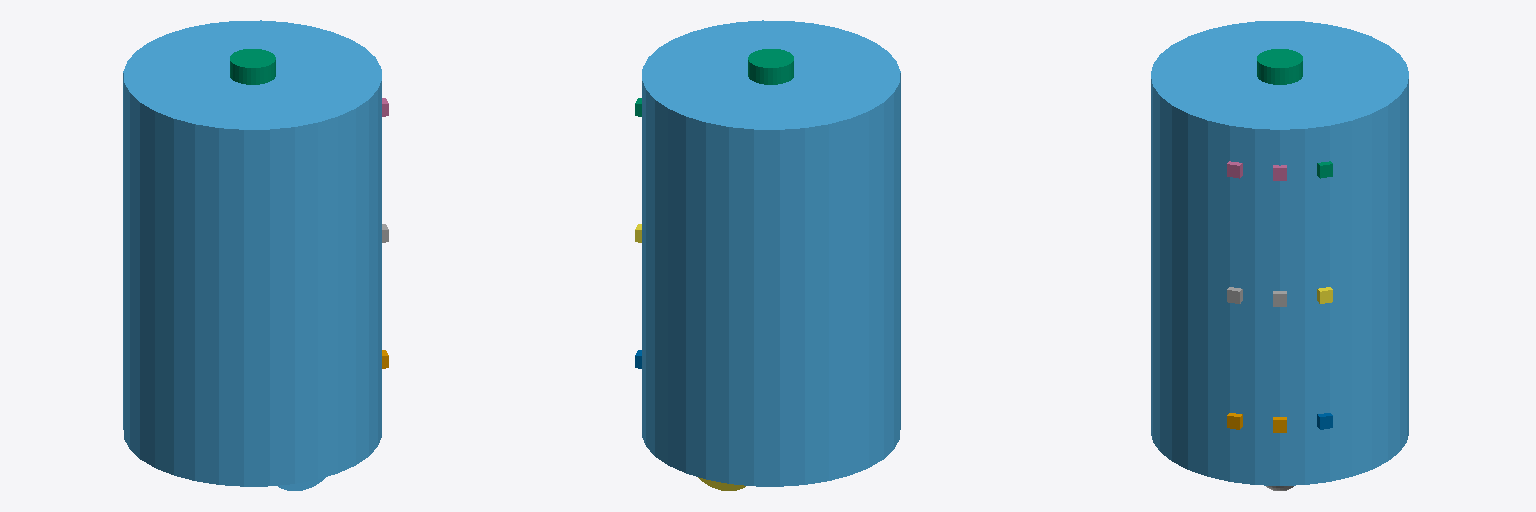
URDF robot description (ServiceRoboter):
?<?xml version="1.0" encoding="utf-8"?>
<robot name="ServiceRoboter">
  <link name="base_link">
    <inertial>
      <origin rpy="0 0 0" xyz="0 0 0" />
      <mass value="1" />
      <inertia ixx="1" ixy="0" ixz="0" iyy="1" iyz="0" izz="1" />
    </inertial>
  </link>
  <link name="barrel">
    <inertial>
      <origin rpy="0 0 0" xyz="0 0 0.475" />
      <mass value="1" />
      <inertia ixx="0.079488530755043" ixy="0" ixz="0" iyy="0.0794885382056236" iyz="0" izz="0.0385604798793793" />
    </inertial>
    <visual>
      <origin xyz="0 0 0.475" />
      <geometry>
        <cylinder length="0.85" radius="0.28" />
      </geometry>
    </visual>
    <collision>
      <origin xyz="0 0 0.475" />
      <geometry>
        <cylinder length="0.85" radius="0.28" />
      </geometry>
    </collision>
  </link>
  <link name="lidar">
    <inertial>
      <origin rpy="0 0 0" xyz="0 0 0" />
      <mass value="1" />
      <inertia ixx="1" ixy="0" ixz="0" iyy="1" iyz="0" izz="1" />
    </inertial>
    <visual>
      <origin xyz="0 0 0.02" />
      <geometry>
        <cylinder length="0.04" radius="0.05" />
      </geometry>
    </visual>
    <collision>
      <origin xyz="0 0 0.02" />
      <geometry>
        <cylinder length="0.04" radius="0.05" />
      </geometry>
    </collision>
  </link>
  <link name="wheel_base">
    <inertial>
      <origin rpy="0 0 0" xyz="0 0 0" />
      <mass value="1" />
      <inertia ixx="1" ixy="0" ixz="0" iyy="1" iyz="0" izz="1" />
    </inertial>
  </link>
  <link name="wheel_back_axis">
    <inertial>
      <origin rpy="0 0 0" xyz="0 0 0" />
      <mass value="1" />
      <inertia ixx="1" ixy="0" ixz="0" iyy="1" iyz="0" izz="1" />
    </inertial>
  </link>
  <link name="wheel_back">
    <inertial>
      <origin rpy="0 0 0" xyz="0 4E-06 3.6E-05" />
      <mass value="1" />
      <inertia ixx="0.00369529682211578" ixy="0" ixz="0" iyy="0.00369553361088037" iyz="0" izz="0.00341923860833049" />
    </inertial>
    <visual>
      <geometry>
        <sphere radius="0.05" />
      </geometry>
    </visual>
    <collision>
      <geometry>
        <sphere radius="0.05" />
      </geometry>
    </collision>
  </link>
  <link name="wheel_front_axis">
    <inertial>
      <origin rpy="0 0 0" xyz="0 0 0" />
      <mass value="1" />
      <inertia ixx="1" ixy="0" ixz="0" iyy="1" iyz="0" izz="1" />
    </inertial>
  </link>
  <link name="wheel_front">
    <inertial>
      <origin rpy="0 0 0" xyz="0 4E-06 3.6E-05" />
      <mass value="1" />
      <inertia ixx="0.00369529682211578" ixy="0" ixz="0" iyy="0.00369553361088037" iyz="0" izz="0.00341923860833049" />
    </inertial>
    <visual>
      <geometry>
        <sphere radius="0.05" />
      </geometry>
    </visual>
    <collision>
      <geometry>
        <sphere radius="0.05" />
      </geometry>
    </collision>
  </link>
  <link name="wheel_left_axis">
    <inertial>
      <origin rpy="0 0 0" xyz="0 0 0" />
      <mass value="1" />
      <inertia ixx="1" ixy="0" ixz="0" iyy="1" iyz="0" izz="1" />
    </inertial>
  </link>
  <link name="wheel_left">
    <inertial>
      <origin rpy="0 0 0" xyz="0 0 0" />
      <mass value="1" />
      <inertia ixx="0.00259254919365048" ixy="0" ixz="0" iyy="0.00491843000054359" iyz="0" izz="0.00259254802949727" />
    </inertial>
    <visual>
      <origin rpy="-1.570796 0 0" />
      <geometry>
        <cylinder length="0.04" radius="0.1" />
      </geometry>
    </visual>
    <collision>
      <origin rpy="-1.570796 0 0" />
      <geometry>
        <cylinder length="0.04" radius="0.1" />
      </geometry>
    </collision>
  </link>
  <link name="wheel_right_axis">
    <inertial>
      <origin rpy="0 0 0" xyz="0 0 0" />
      <mass value="1" />
      <inertia ixx="1" ixy="0" ixz="0" iyy="1" iyz="0" izz="1" />
    </inertial>
  </link>
  <link name="wheel_right">
    <inertial>
      <origin rpy="0 0 0" xyz="0 0 0" />
      <mass value="1" />
      <inertia ixx="0.00259254919365048" ixy="0" ixz="0" iyy="0.00491843000054359" iyz="0" izz="0.00259254802949727" />
    </inertial>
    <visual>
      <origin rpy="-1.570796 0 0" />
      <geometry>
        <cylinder length="0.04" radius="0.1" />
      </geometry>
    </visual>
    <collision>
      <origin rpy="-1.570796 0 0" />
      <geometry>
        <cylinder length="0.04" radius="0.1" />
      </geometry>
    </collision>
  </link>
  <link name="uss_base">
    <inertial>
      <origin rpy="0 0 0" xyz="0 0 0" />
      <mass value="1" />
      <inertia ixx="1" ixy="0" ixz="0" iyy="1" iyz="0" izz="1" />
    </inertial>
  </link>
  <link name="uss_front">
    <inertial>
      <origin rpy="0 0 0" xyz="0 0 0" />
      <mass value="1" />
      <inertia ixx="1" ixy="0" ixz="0" iyy="1" iyz="0" izz="1" />
    </inertial>
  </link>
  <link name="sensor_front_1">
    <inertial>
      <origin rpy="0 0 0" xyz="0 0 0" />
      <mass value="1" />
      <inertia ixx="1" ixy="0" ixz="0" iyy="1" iyz="0" izz="1" />
    </inertial>
    <visual>
      <geometry>
        <box size="0.03 0.03 0.03" />
      </geometry>
    </visual>
  </link>
  <link name="sensor_front_2">
    <inertial>
      <origin rpy="0 0 0" xyz="0 0 0" />
      <mass value="1" />
      <inertia ixx="1" ixy="0" ixz="0" iyy="1" iyz="0" izz="1" />
    </inertial>
    <visual>
      <geometry>
        <box size="0.03 0.03 0.03" />
      </geometry>
    </visual>
  </link>
  <link name="sensor_front_3">
    <inertial>
      <origin rpy="0 0 0" xyz="0 0 0" />
      <mass value="1" />
      <inertia ixx="1" ixy="0" ixz="0" iyy="1" iyz="0" izz="1" />
    </inertial>
    <visual>
      <geometry>
        <box size="0.03 0.03 0.03" />
      </geometry>
    </visual>
  </link>
  <link name="uss_left">
    <inertial>
      <origin rpy="0 0 0" xyz="0 0 0" />
      <mass value="1" />
      <inertia ixx="1" ixy="0" ixz="0" iyy="1" iyz="0" izz="1" />
    </inertial>
  </link>
  <link name="sensor_left_1">
    <inertial>
      <origin rpy="0 0 0" xyz="0 0 0" />
      <mass value="1" />
      <inertia ixx="1" ixy="0" ixz="0" iyy="1" iyz="0" izz="1" />
    </inertial>
    <visual>
      <geometry>
        <box size="0.03 0.03 0.03" />
      </geometry>
    </visual>
  </link>
  <link name="sensor_left_2">
    <inertial>
      <origin rpy="0 0 0" xyz="0 0 0" />
      <mass value="1" />
      <inertia ixx="1" ixy="0" ixz="0" iyy="1" iyz="0" izz="1" />
    </inertial>
    <visual>
      <geometry>
        <box size="0.03 0.03 0.03" />
      </geometry>
    </visual>
  </link>
  <link name="sensor_left_3">
    <inertial>
      <origin rpy="0 0 0" xyz="0 0 0" />
      <mass value="1" />
      <inertia ixx="1" ixy="0" ixz="0" iyy="1" iyz="0" izz="1" />
    </inertial>
    <visual>
      <geometry>
        <box size="0.03 0.03 0.03" />
      </geometry>
    </visual>
  </link>
  <link name="uss_right">
    <inertial>
      <origin rpy="0 0 0" xyz="0 0 0" />
      <mass value="1" />
      <inertia ixx="1" ixy="0" ixz="0" iyy="1" iyz="0" izz="1" />
    </inertial>
  </link>
  <link name="sensor_right_1">
    <inertial>
      <origin rpy="0 0 0" xyz="0 0 0" />
      <mass value="1" />
      <inertia ixx="1" ixy="0" ixz="0" iyy="1" iyz="0" izz="1" />
    </inertial>
    <visual>
      <origin xyz="0.28 0 0" />
      <geometry>
        <box size="0.03 0.03 0.03" />
      </geometry>
    </visual>
  </link>
  <link name="sensor_right_2">
    <inertial>
      <origin rpy="0 0 0" xyz="0 0 0" />
      <mass value="1" />
      <inertia ixx="1" ixy="0" ixz="0" iyy="1" iyz="0" izz="1" />
    </inertial>
    <visual>
      <geometry>
        <box size="0.03 0.03 0.03" />
      </geometry>
    </visual>
  </link>
  <link name="sensor_right_3">
    <inertial>
      <origin rpy="0 0 0" xyz="0 0 0" />
      <mass value="1" />
      <inertia ixx="1" ixy="0" ixz="0" iyy="1" iyz="0" izz="1" />
    </inertial>
    <visual>
      <geometry>
        <box size="0.03 0.03 0.03" />
      </geometry>
    </visual>
  </link>
  <link name="base_footprint">
    <inertial>
      <origin rpy="0 0 0" xyz="0 0 0" />
      <mass value="1" />
      <inertia ixx="1" ixy="0" ixz="0" iyy="1" iyz="0" izz="1" />
    </inertial>
  </link>
  <joint name="base_link_barrel_joint" type="fixed">
    <parent link="base_link" />
    <child link="barrel" />
  </joint>
  <joint name="barrel_lidar_joint" type="fixed">
    <origin xyz="0 0 0.9" />
    <parent link="barrel" />
    <child link="lidar" />
  </joint>
  <joint name="barrel_wheel_base_joint" type="fixed">
    <origin xyz="0 0 0.1" />
    <parent link="barrel" />
    <child link="wheel_base" />
  </joint>
  <joint name="wheel_base_wheel_back_axis_joint" type="fixed">
    <origin xyz="0 0 -0.045" />
    <parent link="wheel_base" />
    <child link="wheel_back_axis" />
  </joint>
  <joint name="wheel_back_axis_wheel_back_joint" type="fixed">
    <origin xyz="-0.2 0 0" />
    <parent link="wheel_back_axis" />
    <child link="wheel_back" />
  </joint>
  <joint name="wheel_base_wheel_front_axis_joint" type="fixed">
    <origin xyz="0.2 0 -0.045" />
    <parent link="wheel_base" />
    <child link="wheel_front_axis" />
  </joint>
  <joint name="wheel_front_axis_wheel_front_joint" type="fixed">
    <parent link="wheel_front_axis" />
    <child link="wheel_front" />
  </joint>
  <joint name="wheel_base_wheel_left_axis_joint" type="fixed">
    <origin xyz="0 -0.2 0" />
    <parent link="wheel_base" />
    <child link="wheel_left_axis" />
  </joint>
  <joint name="wheel_left_axis_wheel_left_joint" type="revolute">
    <parent link="wheel_left_axis" />
    <child link="wheel_left" />
    <dynamics damping="0.0500000007450581" friction="0.0500000007450581" />
    <limit lower="0" upper="0" effort="3.40282346638529E+38" velocity="7" />
  </joint>
  <joint name="wheel_base_wheel_right_axis_joint" type="fixed">
    <origin xyz="0 0.2 0" />
    <parent link="wheel_base" />
    <child link="wheel_right_axis" />
  </joint>
  <joint name="wheel_right_axis_wheel_right_joint" type="revolute">
    <parent link="wheel_right_axis" />
    <child link="wheel_right" />
    <dynamics damping="0.0500000007450581" friction="0.0500000007450581" />
    <limit lower="0" upper="0" effort="3.40282346638529E+38" velocity="7" />
  </joint>
  <joint name="barrel_uss_base_joint" type="fixed">
    <origin xyz="0 0 0.8" />
    <parent link="barrel" />
    <child link="uss_base" />
  </joint>
  <joint name="uss_base_uss_front_joint" type="fixed">
    <parent link="uss_base" />
    <child link="uss_front" />
  </joint>
  <joint name="uss_front_sensor_front_1_joint" type="fixed">
    <origin xyz="0.28 0 0" />
    <parent link="uss_front" />
    <child link="sensor_front_1" />
  </joint>
  <joint name="uss_front_sensor_front_2_joint" type="fixed">
    <origin xyz="0.28 0 -0.3" />
    <parent link="uss_front" />
    <child link="sensor_front_2" />
  </joint>
  <joint name="uss_front_sensor_front_3_joint" type="fixed">
    <origin xyz="0.28 0 -0.6" />
    <parent link="uss_front" />
    <child link="sensor_front_3" />
  </joint>
  <joint name="uss_base_uss_left_joint" type="fixed">
    <origin rpy="0 0 -5.934119" />
    <parent link="uss_base" />
    <child link="uss_left" />
  </joint>
  <joint name="uss_left_sensor_left_1_joint" type="fixed">
    <origin xyz="0.28 0 0" />
    <parent link="uss_left" />
    <child link="sensor_left_1" />
  </joint>
  <joint name="uss_left_sensor_left_2_joint" type="fixed">
    <origin xyz="0.28 0 -0.3" />
    <parent link="uss_left" />
    <child link="sensor_left_2" />
  </joint>
  <joint name="uss_left_sensor_left_3_joint" type="fixed">
    <origin xyz="0.28 0 -0.6" />
    <parent link="uss_left" />
    <child link="sensor_left_3" />
  </joint>
  <joint name="uss_base_uss_right_joint" type="fixed">
    <origin rpy="0 0 -0.349066" />
    <parent link="uss_base" />
    <child link="uss_right" />
  </joint>
  <joint name="uss_right_sensor_right_1_joint" type="fixed">
    <parent link="uss_right" />
    <child link="sensor_right_1" />
  </joint>
  <joint name="uss_right_sensor_right_2_joint" type="fixed">
    <origin xyz="0.28 0 -0.3" />
    <parent link="uss_right" />
    <child link="sensor_right_2" />
  </joint>
  <joint name="uss_right_sensor_right_3_joint" type="fixed">
    <origin xyz="0.28 0 -0.6" />
    <parent link="uss_right" />
    <child link="sensor_right_3" />
  </joint>
  <joint name="base_link_base_footprint_joint" type="fixed">
    <parent link="base_link" />
    <child link="base_footprint" />
  </joint>
</robot>

--- Facts derived from the render (not from the file) ---
The picture shows the robot from 3 angles, left to right: view 1: azimuth 30°, elevation 25°; view 2: azimuth 150°, elevation 25°; view 3: azimuth 270°, elevation 25°; orthographic projection.
Model ServiceRoboter with 26 links and 25 joints (2 revolute, 23 fixed), rooted at base_link, posed every joint at zero.
Visible links, largest first — view 1: barrel, lidar; view 2: barrel, lidar; view 3: barrel, lidar.
Boxes of the visible links, box(x1,y1,x2,y2) form: barrel: box(123, 20, 381, 486); lidar: box(230, 49, 275, 84); barrel: box(642, 20, 900, 486); lidar: box(748, 49, 793, 84); barrel: box(1151, 21, 1408, 485); lidar: box(1257, 49, 1302, 84).
Bounding box of the posed robot: 0.575 × 0.56 × 0.94 m (x, y, z).
Geometry: primitives only (box / cylinder / sphere), no mesh files.